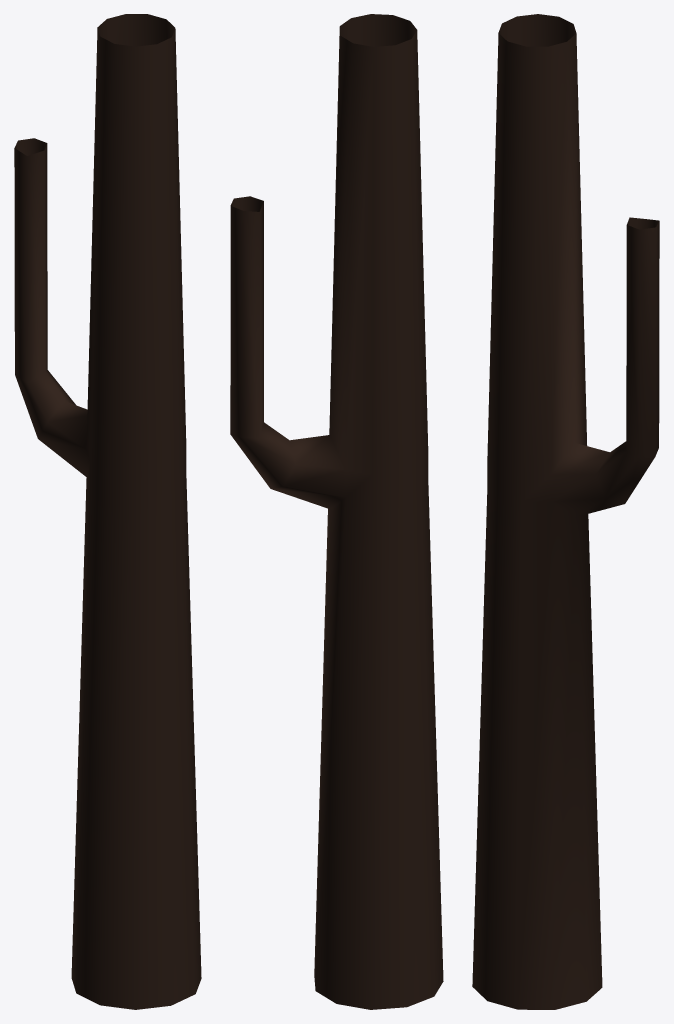
Rendered from treeTest.dae.
The picture shows the model from 3 angles, left to right: view 1: azimuth 90°, elevation 25°; view 2: azimuth 150°, elevation 25°; view 3: azimuth 270°, elevation 25°; orthographic projection.
Visible parts, largest first — view 1: Cylinder; view 2: Cylinder; view 3: Cylinder.
Part boxes in pixels (<box>): Cylinder: <box>14,14,201,1009</box>; Cylinder: <box>230,14,443,1009</box>; Cylinder: <box>472,14,659,1009</box>.
Size of the model in its own units: 6.68 by 7.2 by 40.46.
